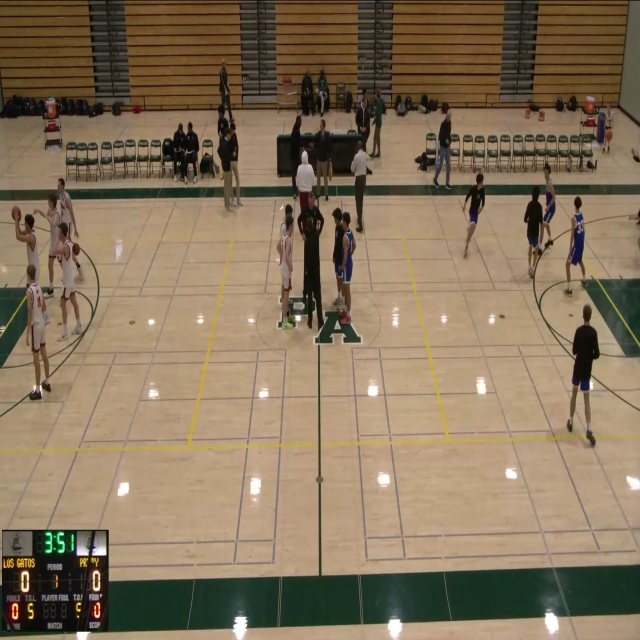Basketball: (11, 206, 21, 221), (605, 128, 612, 141), (586, 96, 595, 104)
